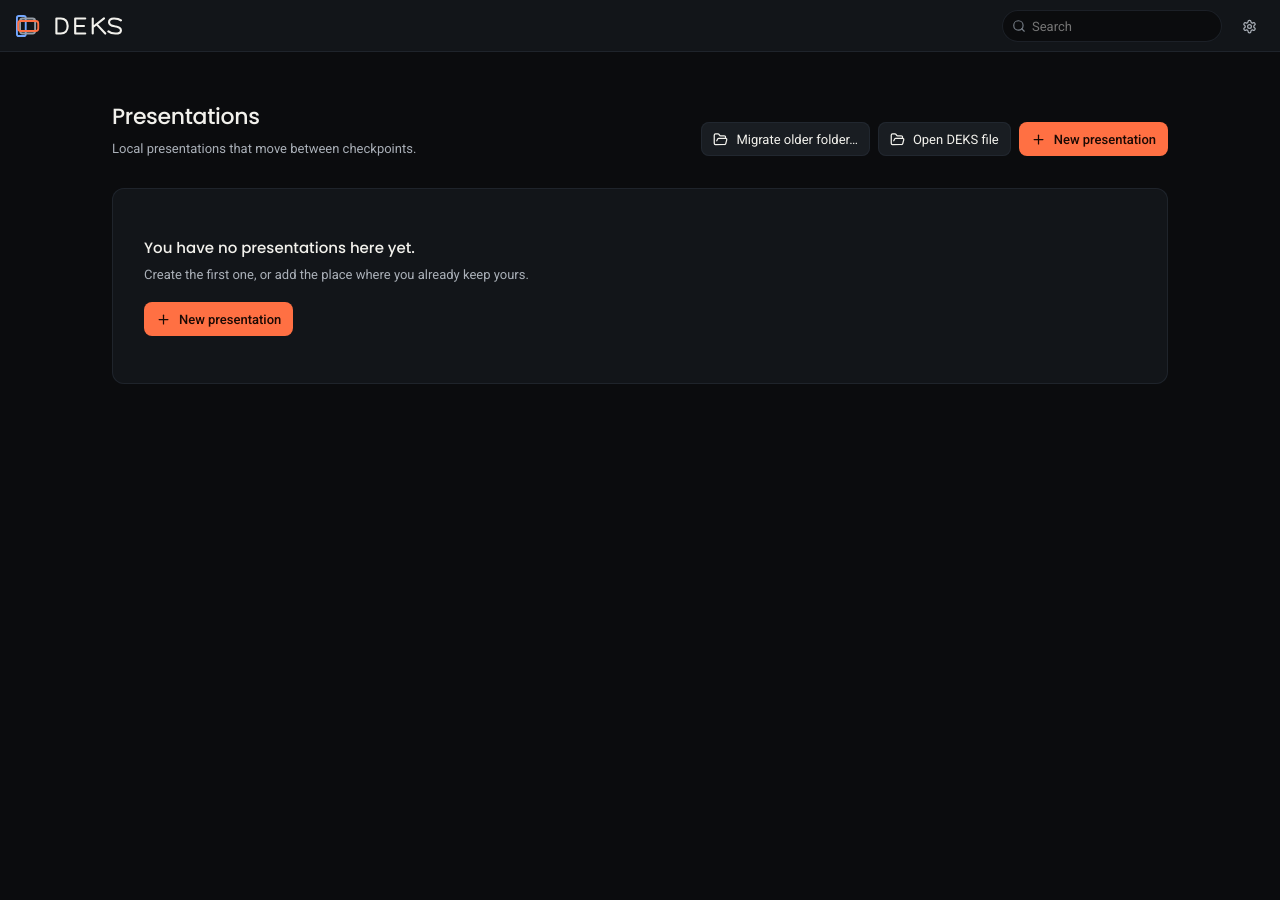
Test: preferencia global de idioma › revierte un fallo vigente a la última preferencia confirmada
The image size is (1280, 900).
Step 1. Click the button named "Settings" → (1249, 26), box [1234, 11, 1264, 41]
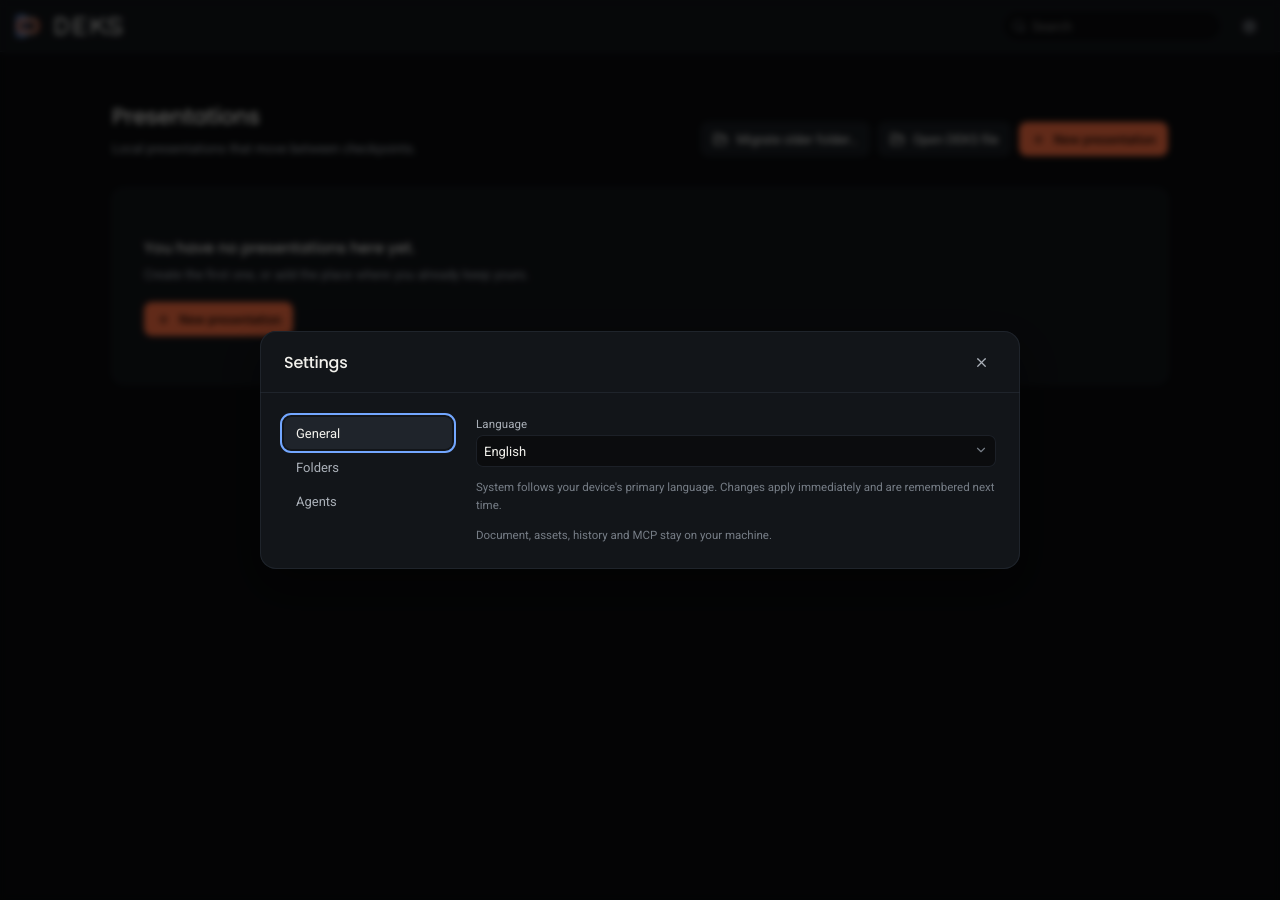
Step 2. Click the dropdown named "Language" → (505, 451), box [476, 435, 996, 467]
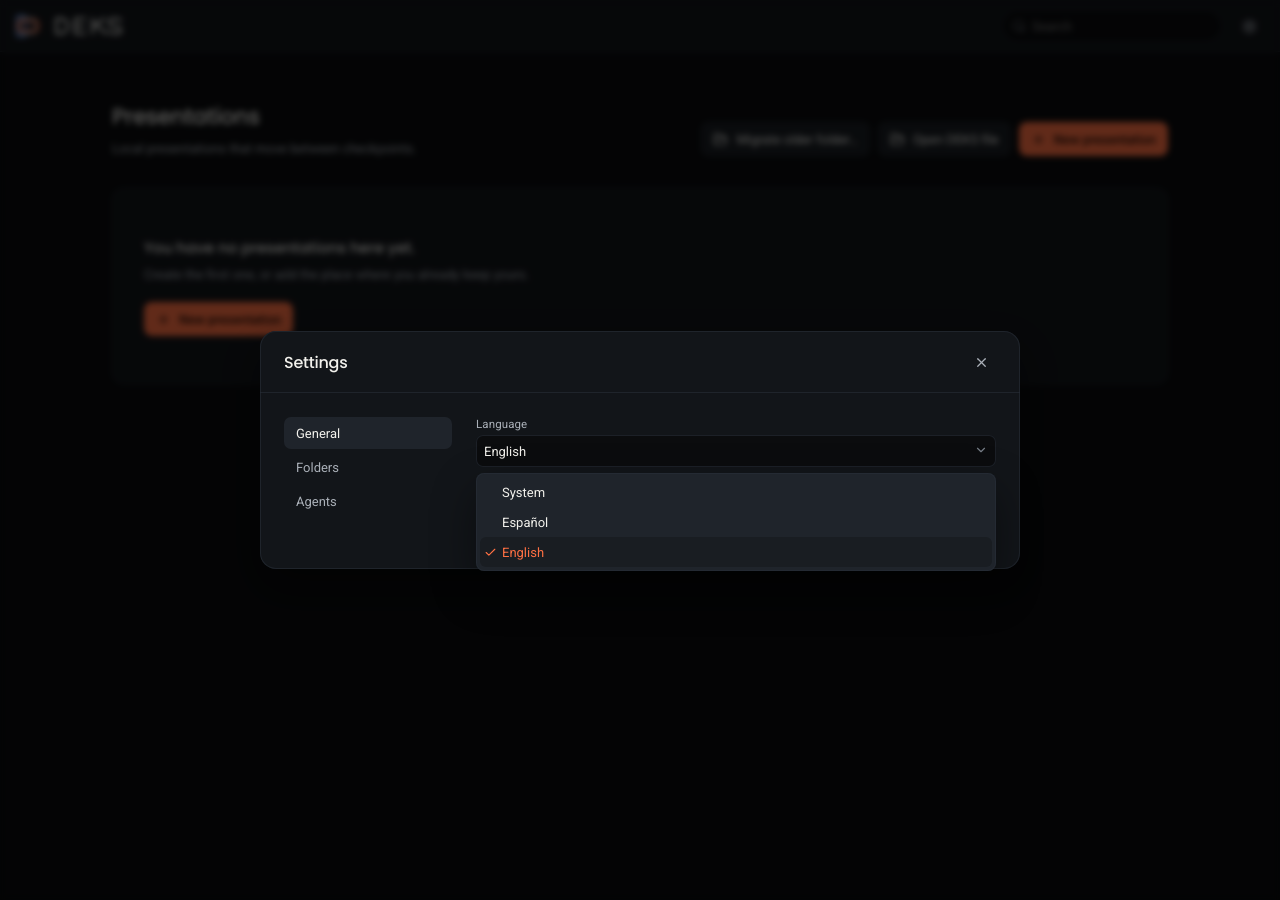
Step 3. Click the option "Español" → (525, 522), box [502, 514, 548, 530]
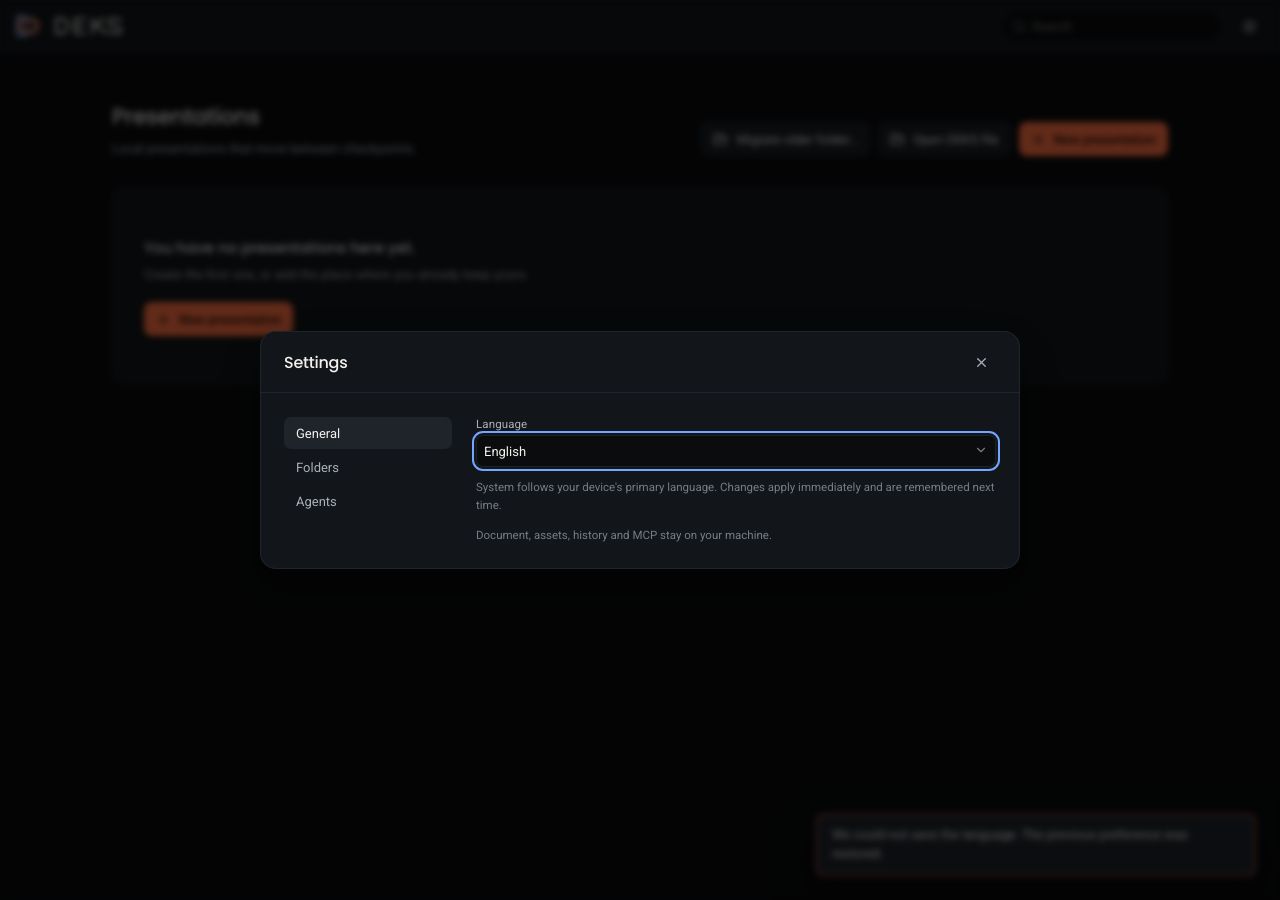
Expected: the dropdown named "Language" reads "English", [476, 435, 996, 467]
Expected: the message shows "We could not save the language", [832, 827, 1188, 861]
